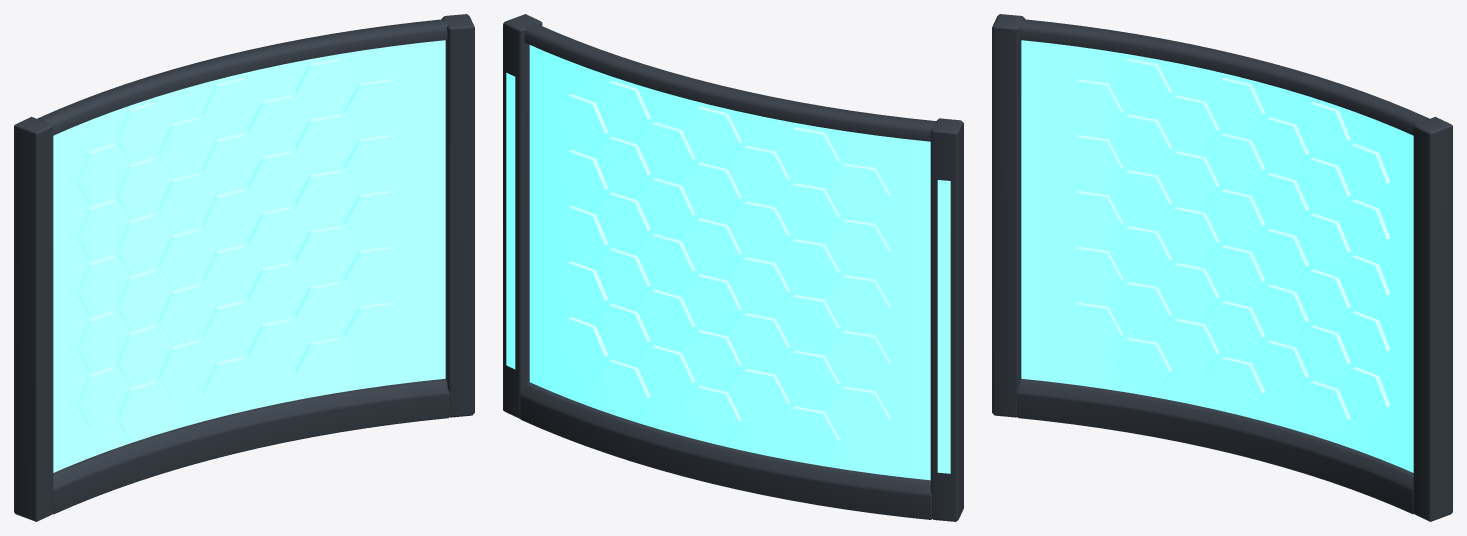
File: shield_wall.glb
The picture shows the model from 3 angles, left to right: view 1: azimuth 30°, elevation 25°; view 2: azimuth 150°, elevation 25°; view 3: azimuth 330°, elevation 25°; orthographic projection.
Parts seen in each view (by area): view 1: ShieldWall; view 2: ShieldWall; view 3: ShieldWall.
Part boxes in pixels (x1,y1,x2,y2): ShieldWall: [14, 14, 474, 521]; ShieldWall: [503, 14, 963, 521]; ShieldWall: [992, 14, 1452, 521].
Bounding box in the file's own units: 2.44 × 2 × 0.3422.
